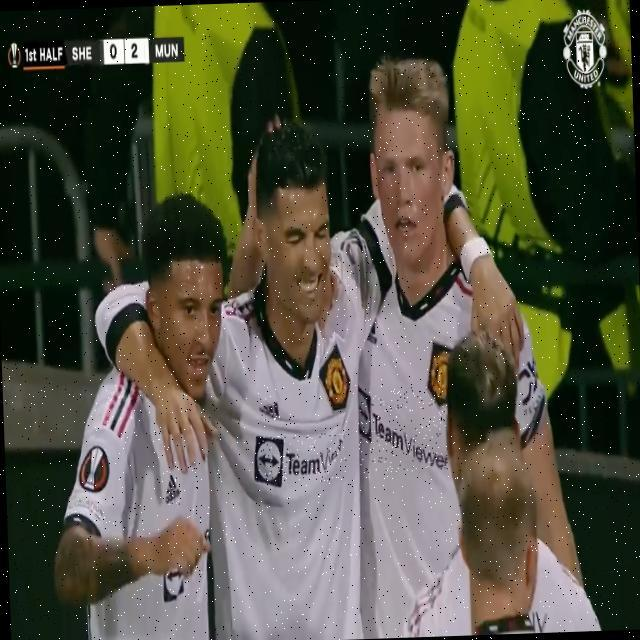Adidas: (164, 470, 181, 505), (260, 398, 279, 420)
TeamViewer: (357, 386, 448, 473), (254, 432, 350, 483)
